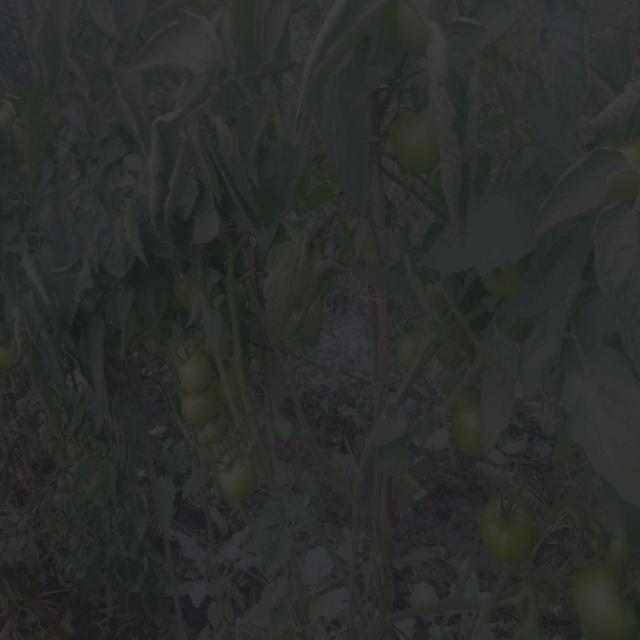tomato: (567, 563, 639, 637), (388, 102, 449, 185), (472, 254, 545, 312), (583, 140, 640, 211), (476, 504, 538, 567), (453, 395, 504, 462), (164, 266, 222, 314), (397, 5, 443, 60), (288, 294, 327, 349), (583, 516, 636, 554), (438, 323, 480, 368), (389, 324, 427, 373), (218, 456, 256, 500), (172, 358, 214, 389), (172, 393, 219, 419), (3, 97, 29, 140), (1, 334, 29, 373), (62, 440, 90, 460), (194, 429, 224, 446), (54, 476, 76, 491), (52, 494, 68, 507)
